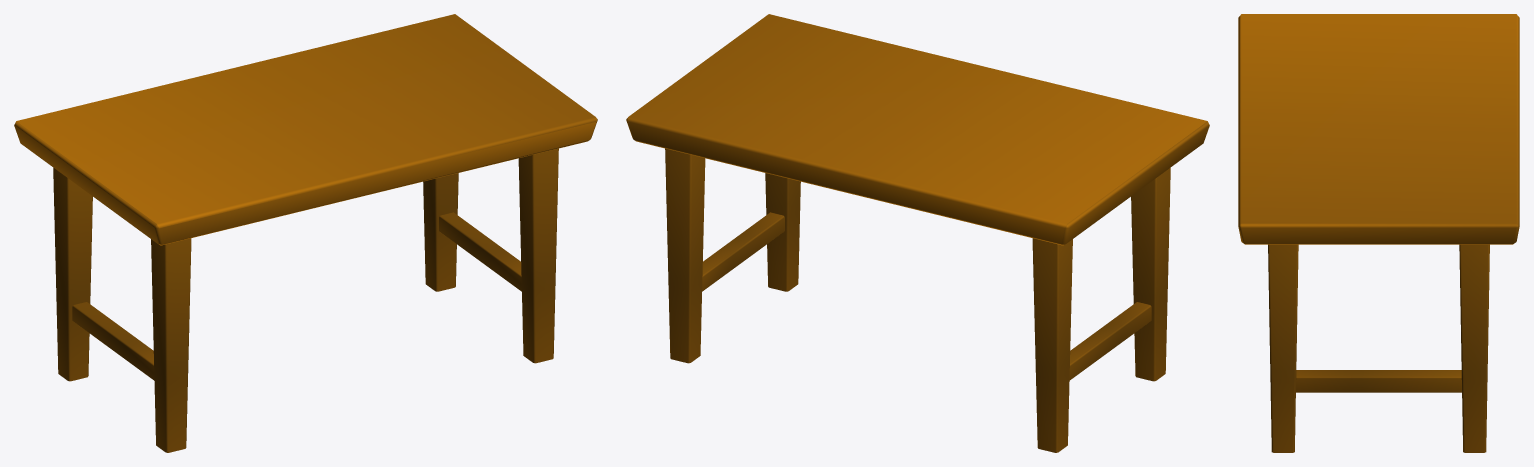
The model's file is Table.fbx.
3 views of the same model, side by side, from view 1: azimuth 30°, elevation 25°; view 2: azimuth 150°, elevation 25°; view 3: azimuth 270°, elevation 25° (orthographic). The views are drawn at different scales.
Parts seen in each view (by area): view 1: table1; view 2: table1; view 3: table1.
Boxes of the visible parts, <box> form: table1: <box>14,14,597,452</box>; table1: <box>626,14,1209,452</box>; table1: <box>1238,14,1519,452</box>.
Bounding box in the file's own units: 148 × 78.74 × 83.08.
